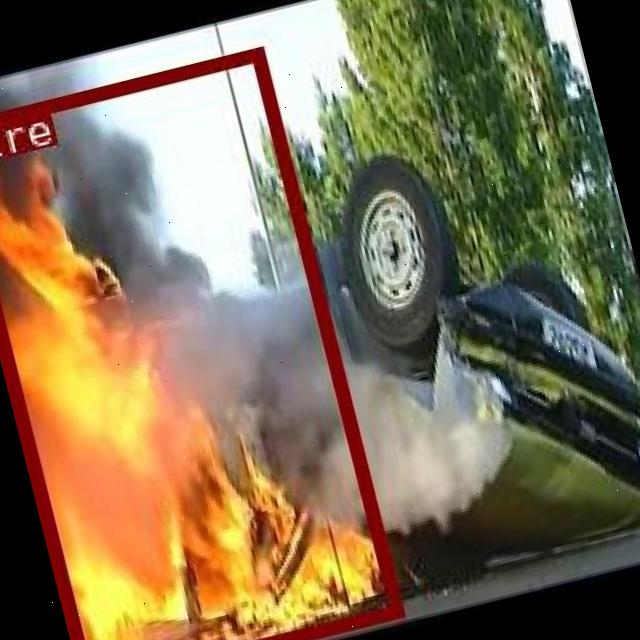fire: (0, 46, 399, 640)
